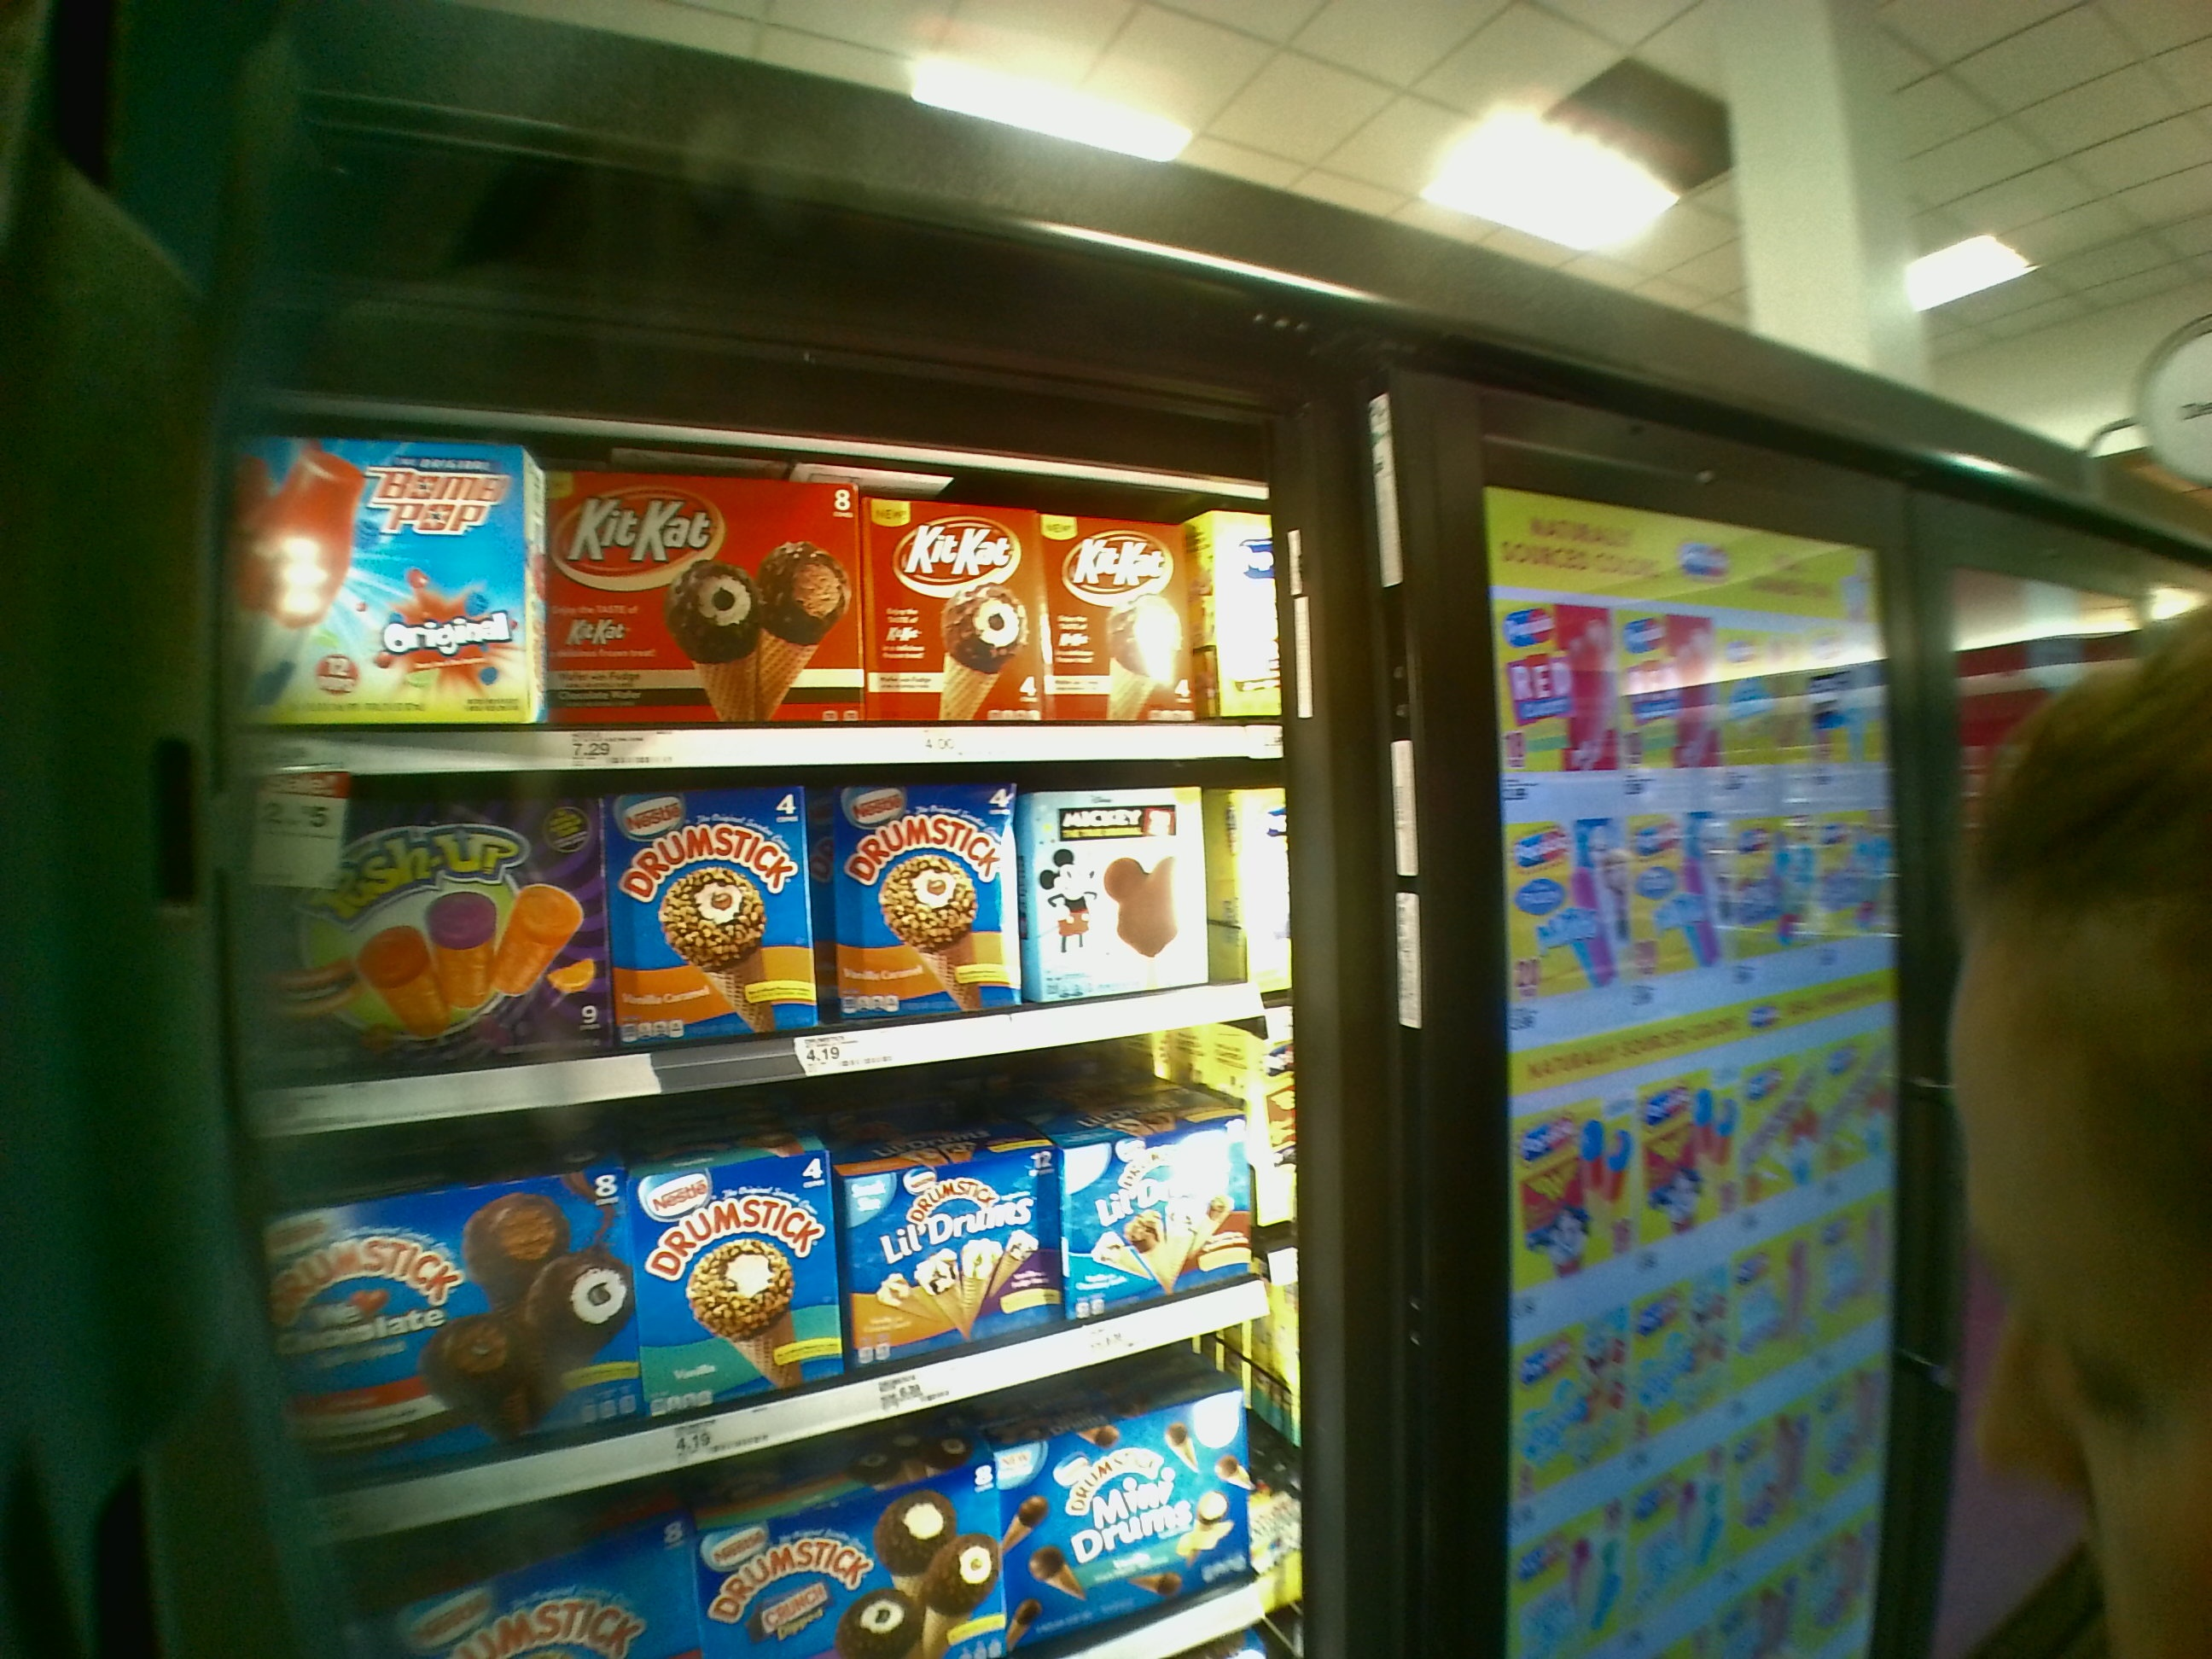shelf: (272, 1068, 1299, 1441), (242, 413, 1277, 767), (244, 774, 1306, 1079)
